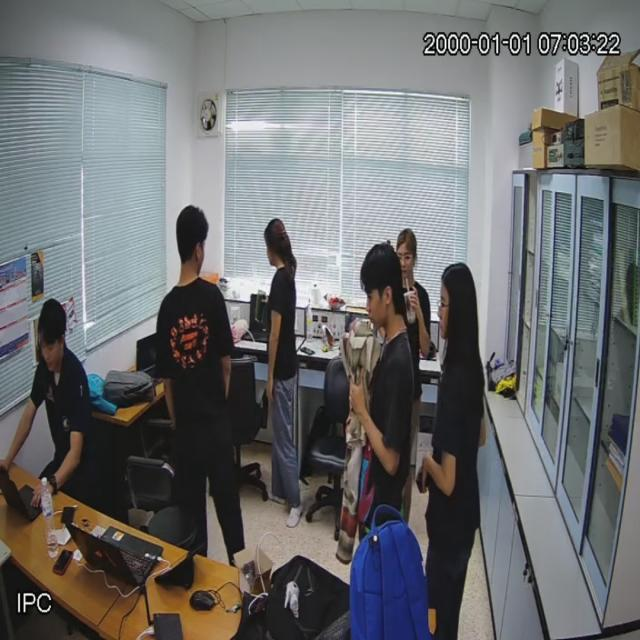normal: (153, 194, 256, 583), (426, 256, 489, 640), (351, 240, 417, 560), (27, 298, 100, 514), (261, 214, 302, 532)
